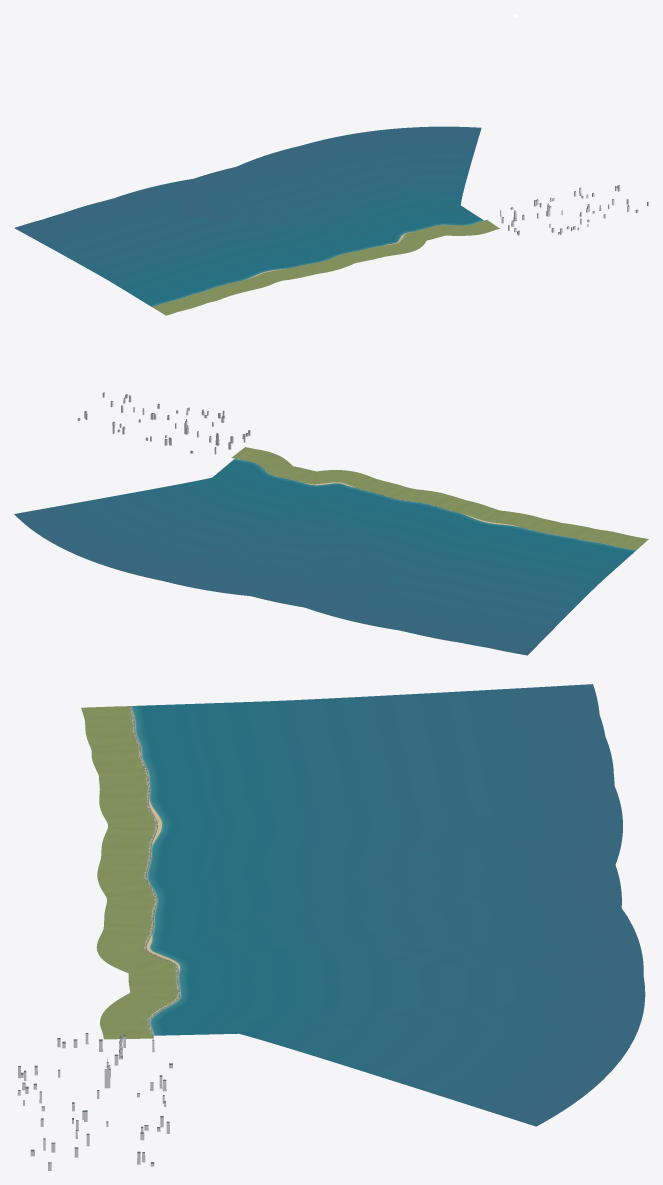
The model's file is lakefront.glb.
The picture shows the model from 3 angles, top to bottom: view 1: azimuth 30°, elevation 25°; view 2: azimuth 150°, elevation 25°; view 3: azimuth 270°, elevation 25°; orthographic projection. The views are drawn at different scales.
Parts seen in each view (by area): view 1: Sea, MichiganTowers; view 2: Sea, MichiganTowers; view 3: Sea, MichiganTowers, LincolnPark_032.
Boxes of the visible parts, x1=… form: Sea: x1=14, y1=126, x2=483, y2=306; MichiganTowers: x1=500, y1=186, x2=648, y2=235; Sea: x1=14, y1=459, x2=635, y2=655; MichiganTowers: x1=77, y1=393, x2=250, y2=454; Sea: x1=131, y1=684, x2=645, y2=1126; MichiganTowers: x1=17, y1=1034, x2=172, y2=1170; LincolnPark_032: x1=97, y1=947, x2=151, y2=968.
Bounding box in the file's own units: 15344 × 3713 × 8358.
